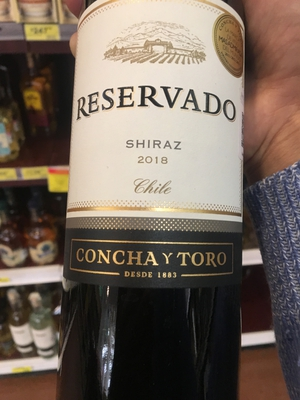reservado shiraz: (61, 6, 260, 400)
